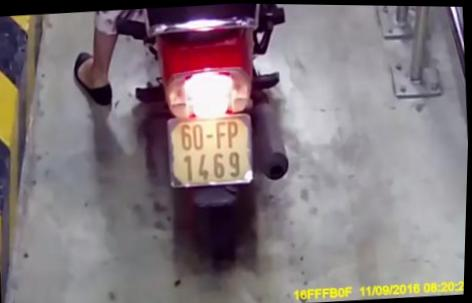LP: (165, 108, 260, 191)
